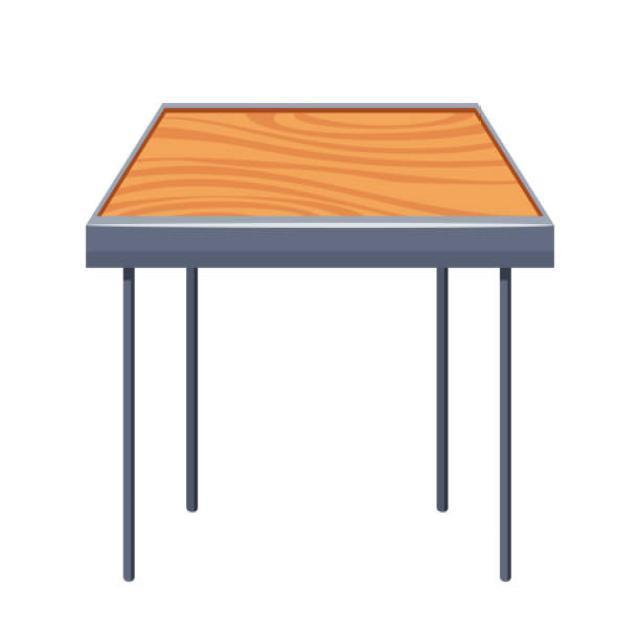table: (84, 101, 556, 584)
